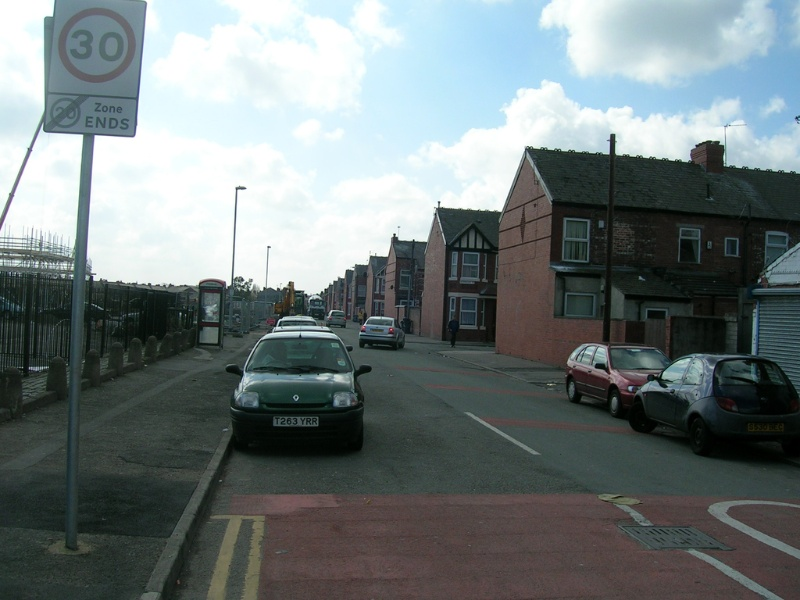speed_limit_30: (52, 2, 168, 92)
zone_ends: (35, 95, 148, 134)
